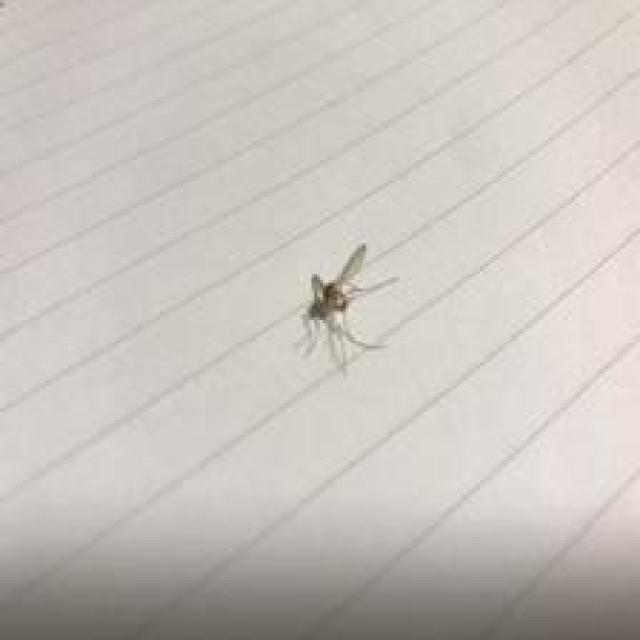Culex: (293, 241, 398, 376)
